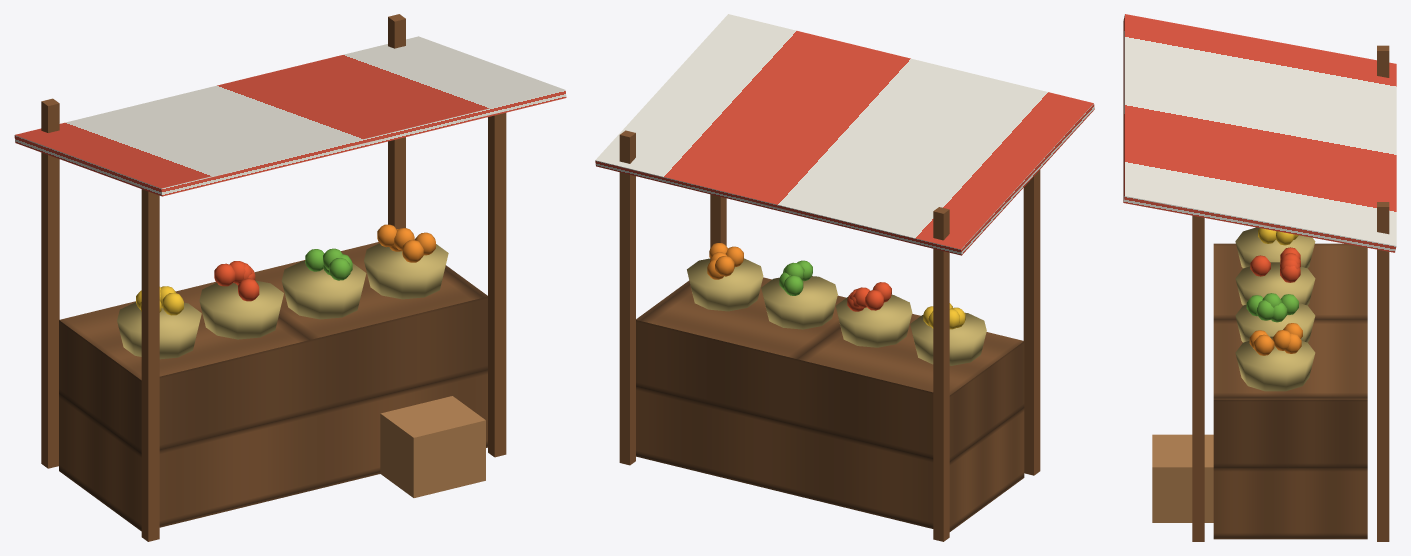
File: prop_kios_a.glb
3 renders of one model, left to right at view 1: azimuth 30°, elevation 25°; view 2: azimuth 150°, elevation 25°; view 3: azimuth 270°, elevation 25°, orthographic. The views are drawn at different scales.
Parts seen in each view (by area): view 1: kios_a; view 2: kios_a; view 3: kios_a.
Boxes of the visible parts, <box> form: kios_a: <box>14,14,566,541</box>; kios_a: <box>595,14,1094,541</box>; kios_a: <box>1123,14,1396,541</box>.
Size of the model in its own units: 2.8 by 2.55 by 1.77.
Materials: 9 (2 with a texture image).
